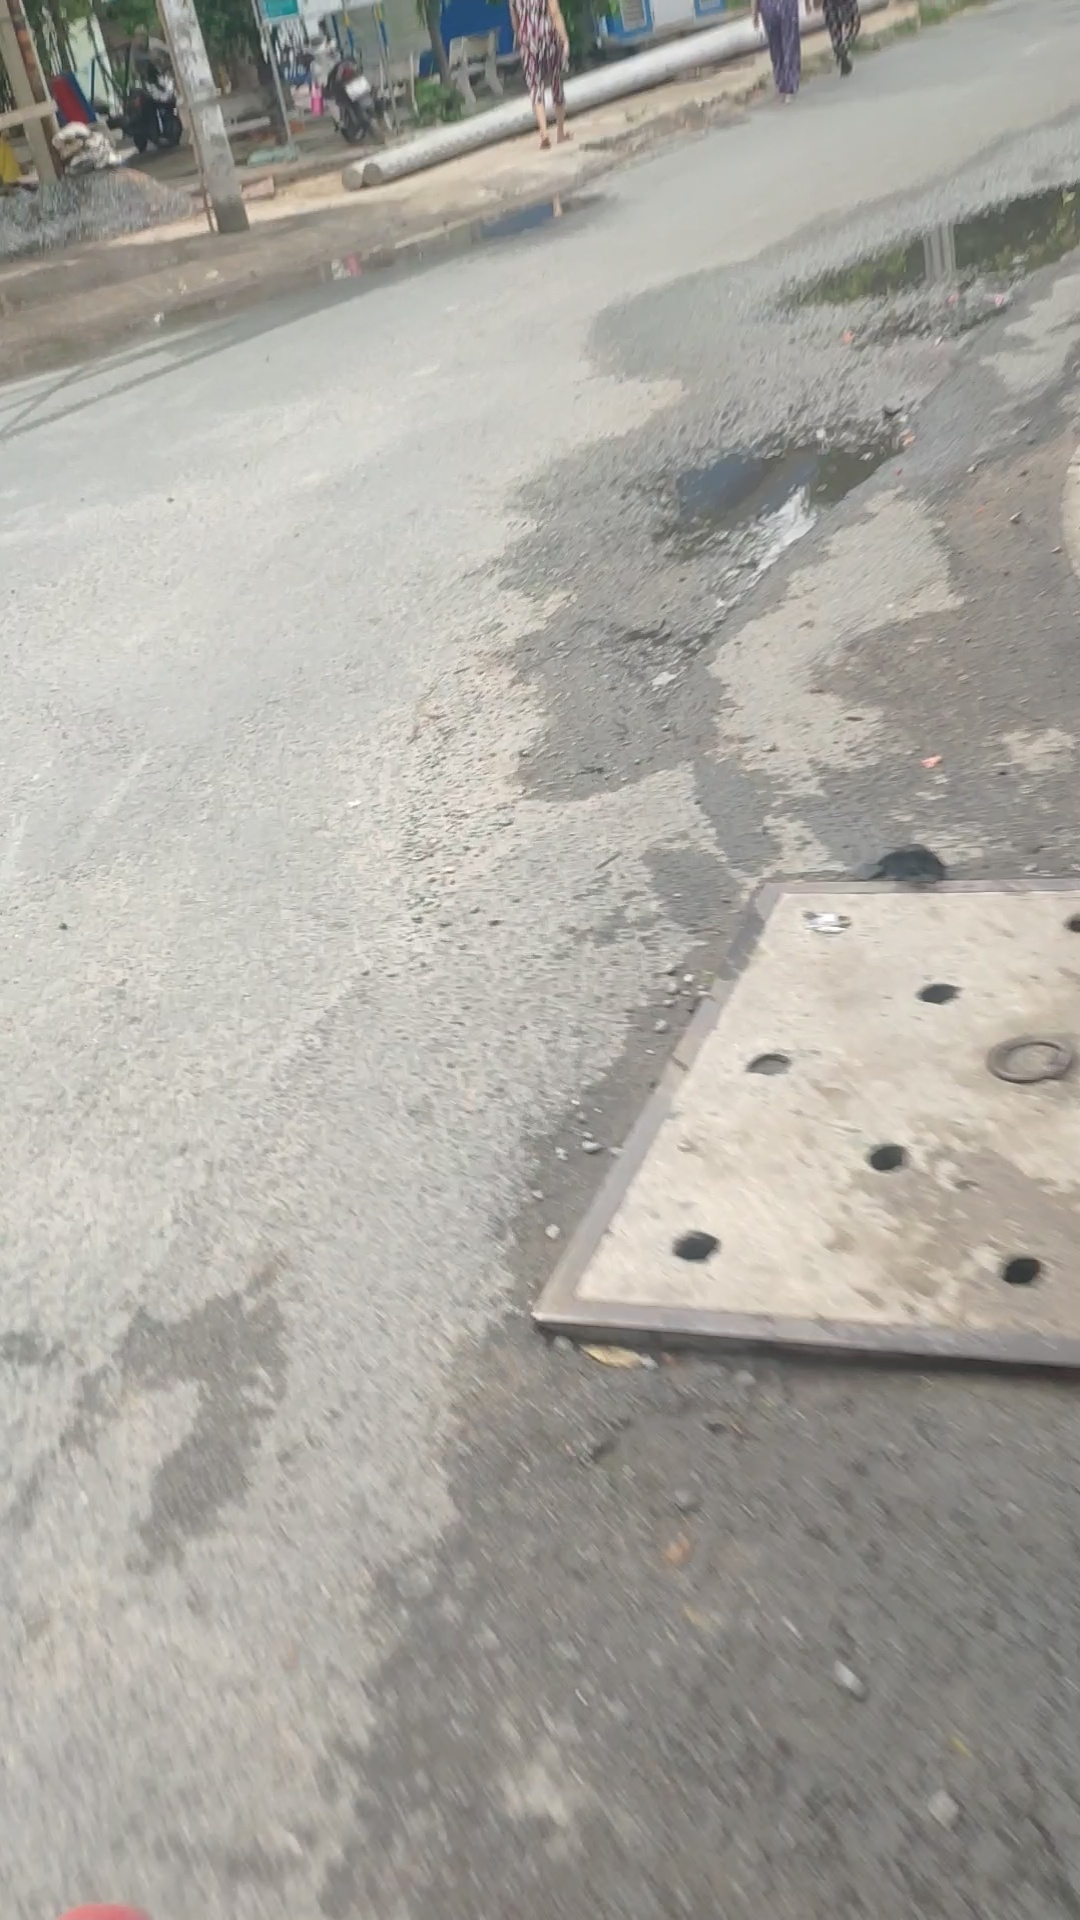hole: (615, 396, 902, 597), (764, 158, 1080, 338)
